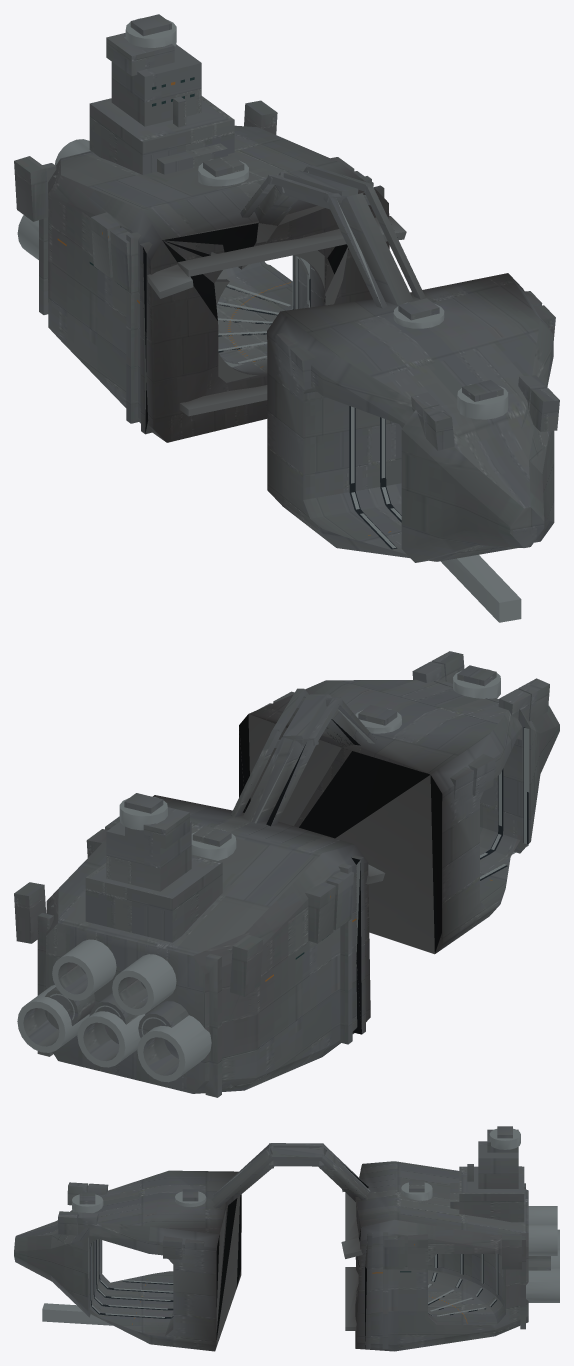
The model's file is enkaz.glb.
3 renders of one model, top to bottom at view 1: azimuth 30°, elevation 25°; view 2: azimuth 150°, elevation 25°; view 3: azimuth 270°, elevation 25°, orthographic. The views are drawn at different scales.
Visible parts, largest first — view 1: lod0; view 2: lod0; view 3: lod0.
Part boxes in pixels (x1=…): lod0: x1=14, y1=14, x2=559, y2=622; lod0: x1=14, y1=651, x2=559, y2=1097; lod0: x1=14, y1=1126, x2=559, y2=1351.
Size of what is drawn, in the model's own units: 163 by 191 by 488.
Materials: 1 (1 with a texture image).
